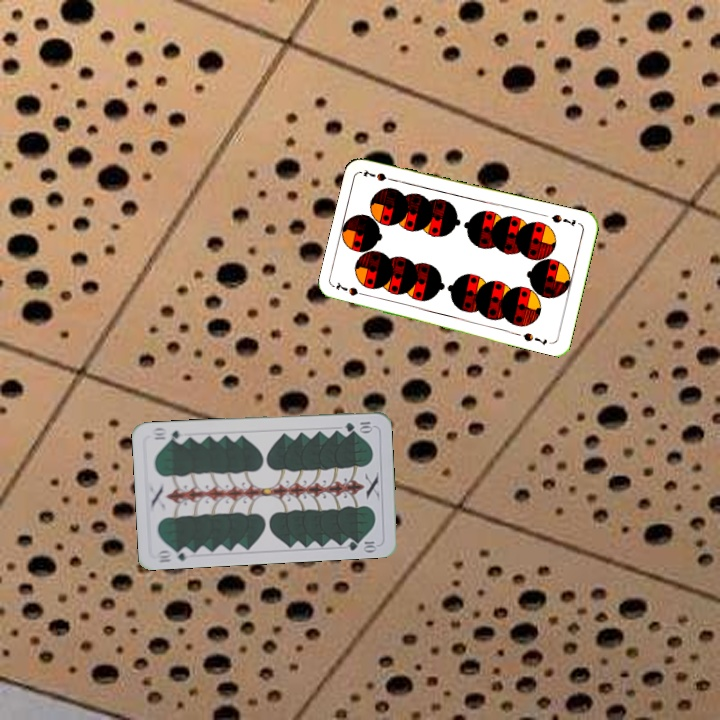G10: (153, 544, 194, 565), (341, 417, 375, 434)
S7: (332, 279, 372, 299), (548, 210, 578, 229)
